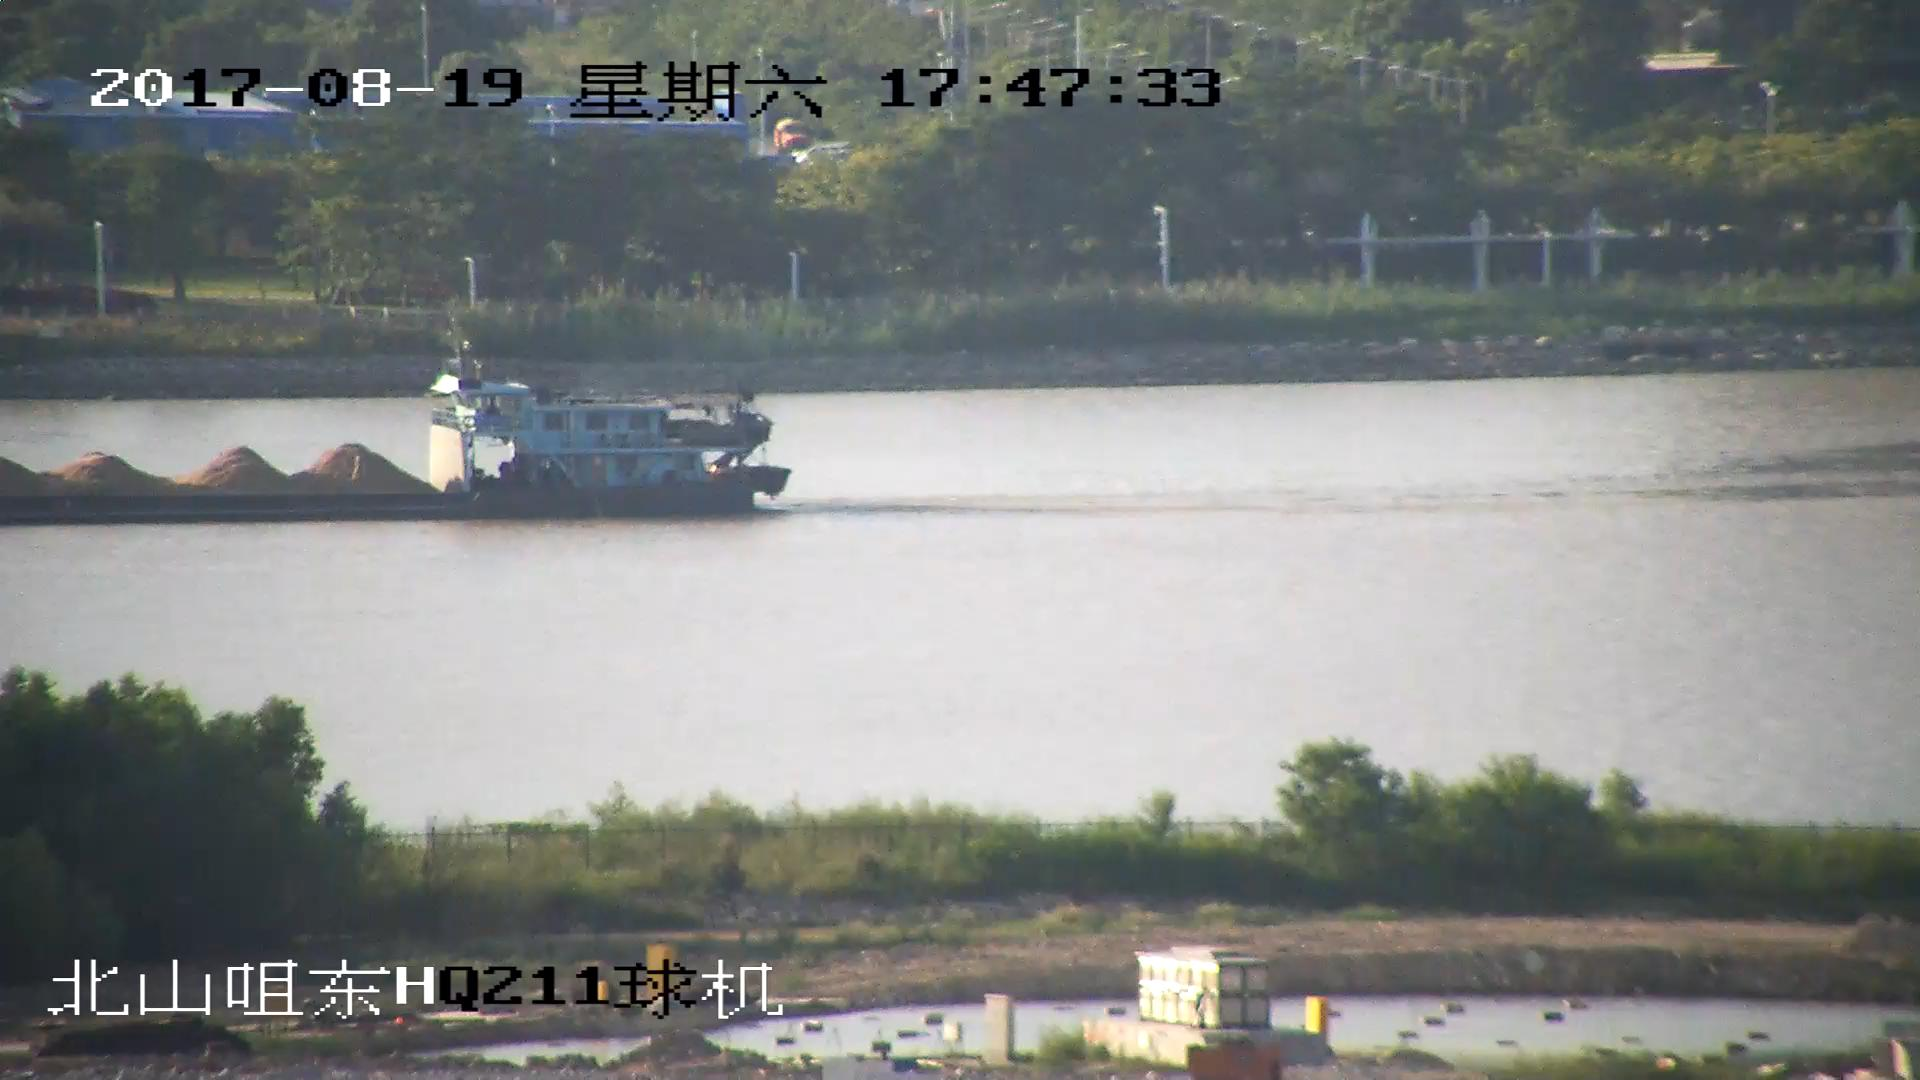ore carrier: (1, 333, 792, 526)
